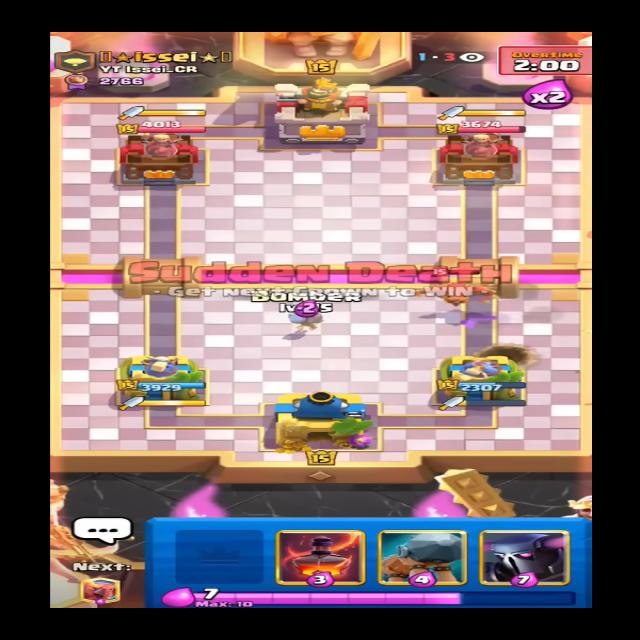Pheonix: (412, 268, 503, 306)
